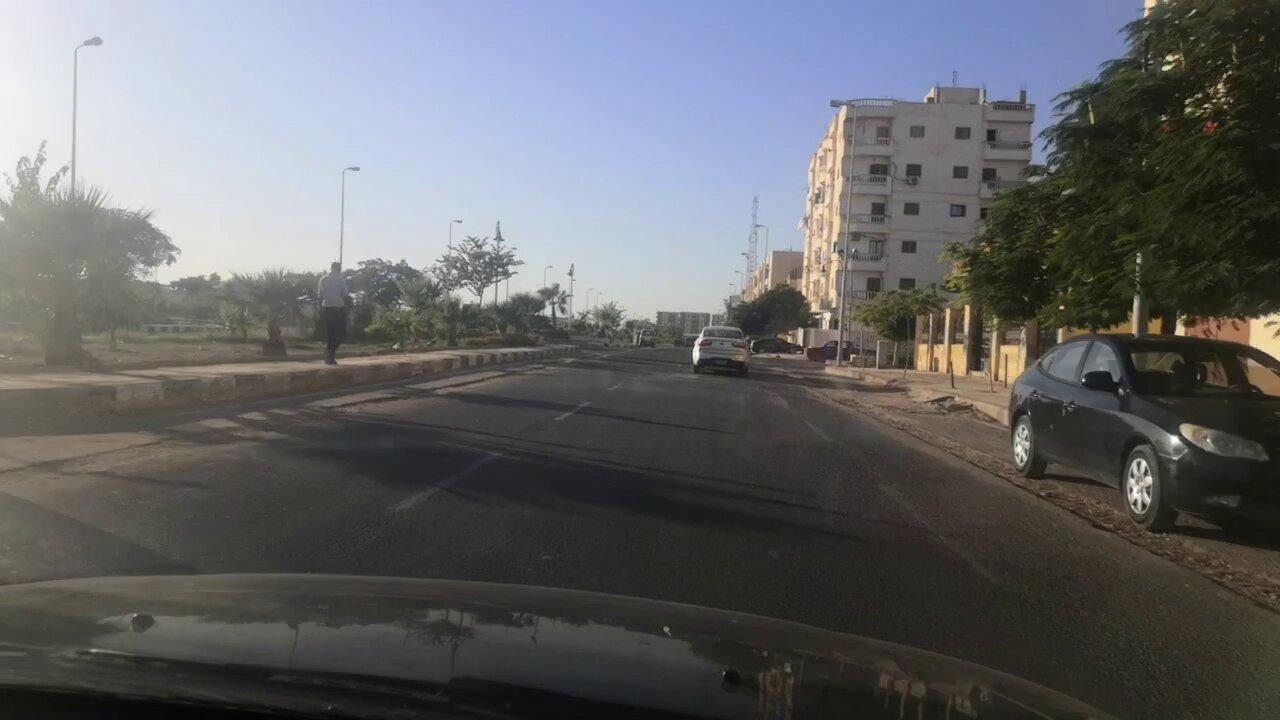Bump: (533, 358, 819, 395)
Pothole: (0, 366, 539, 488)
